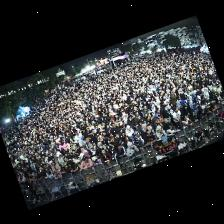person: (114, 145, 126, 170), (143, 130, 156, 145), (65, 161, 80, 174), (80, 156, 93, 170), (173, 107, 182, 127), (101, 149, 112, 165), (127, 142, 139, 156), (164, 122, 178, 134), (153, 115, 163, 131), (133, 137, 144, 150), (134, 112, 145, 125), (164, 105, 172, 122), (105, 139, 114, 154), (182, 115, 194, 126), (156, 126, 166, 139), (134, 131, 144, 143), (142, 123, 151, 136), (57, 153, 66, 166), (127, 117, 136, 130), (193, 98, 199, 117), (160, 101, 166, 120), (68, 148, 78, 159), (73, 154, 82, 166), (45, 168, 54, 180), (181, 95, 189, 108), (88, 143, 96, 156), (37, 170, 47, 180), (114, 133, 123, 144), (126, 126, 133, 140), (124, 136, 132, 148), (51, 161, 61, 170), (59, 140, 68, 150), (188, 110, 196, 121), (110, 123, 118, 134), (197, 107, 204, 119), (98, 141, 107, 150), (92, 156, 101, 165), (137, 120, 143, 133), (41, 160, 52, 167), (54, 170, 62, 179), (79, 147, 86, 157), (69, 141, 76, 150), (216, 99, 223, 108), (118, 129, 125, 138), (171, 92, 176, 104), (176, 96, 181, 107), (203, 107, 209, 116), (123, 113, 128, 123), (189, 97, 193, 109), (64, 157, 73, 162), (33, 173, 37, 184), (43, 164, 51, 169), (84, 152, 90, 157), (220, 98, 223, 104)
